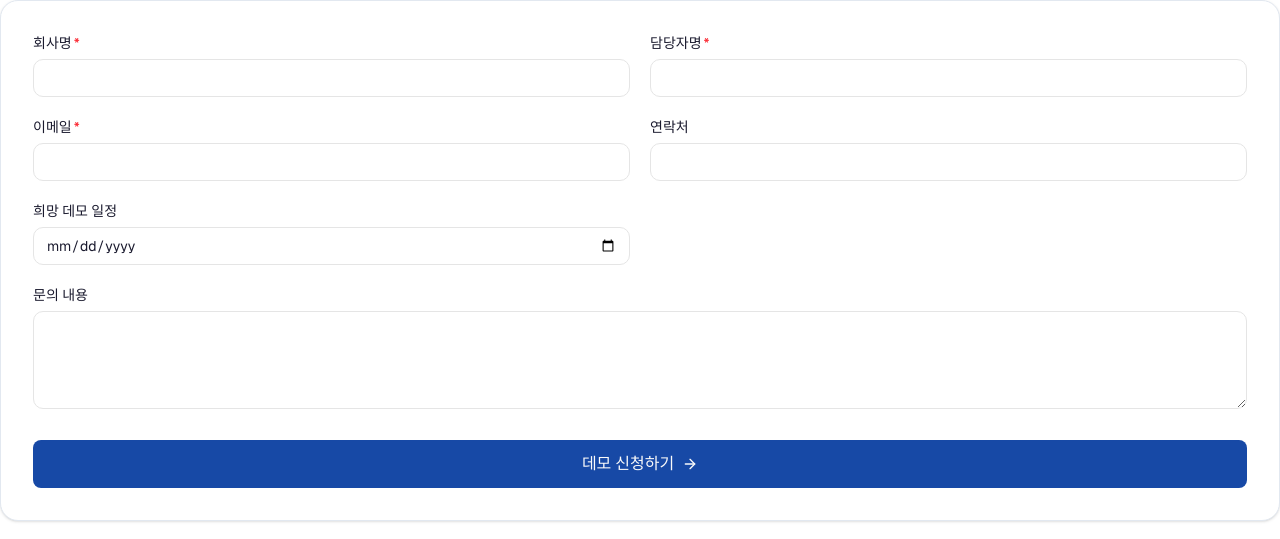
Scenario: DemoForm › posts to the inquiry API and shows success on valid input
Type "에이아이툴즈" into the field labelled "회사명*". click: (332, 78)
box: top-left (33, 59), bottom-right (630, 97)
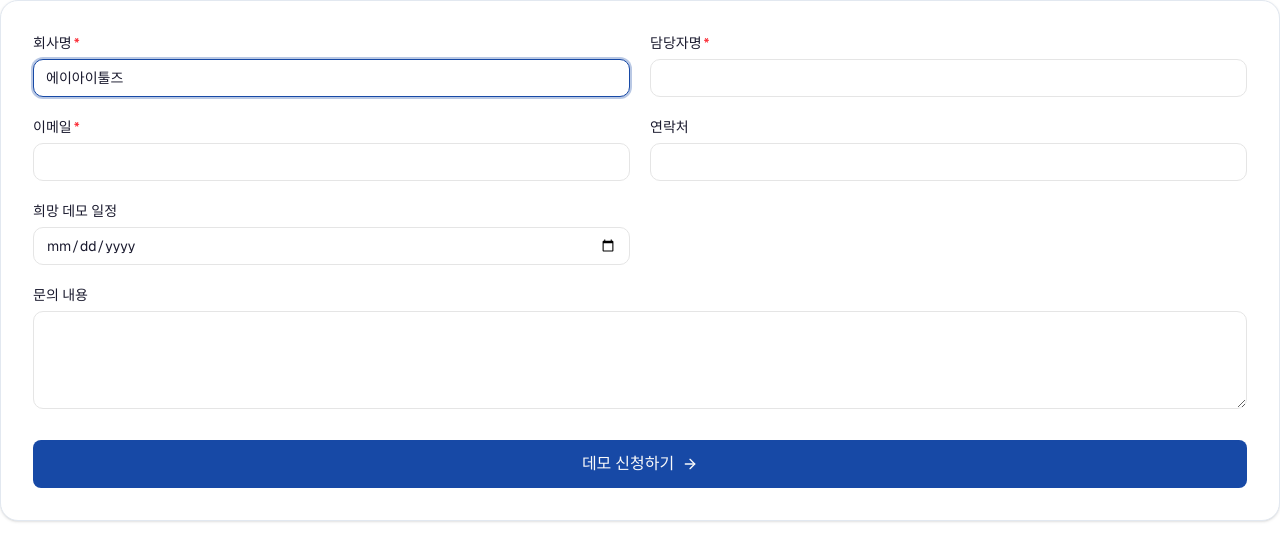
Type "서동구" into the field labelled "담당자명*". click: (948, 78)
box: top-left (650, 59), bottom-right (1247, 97)
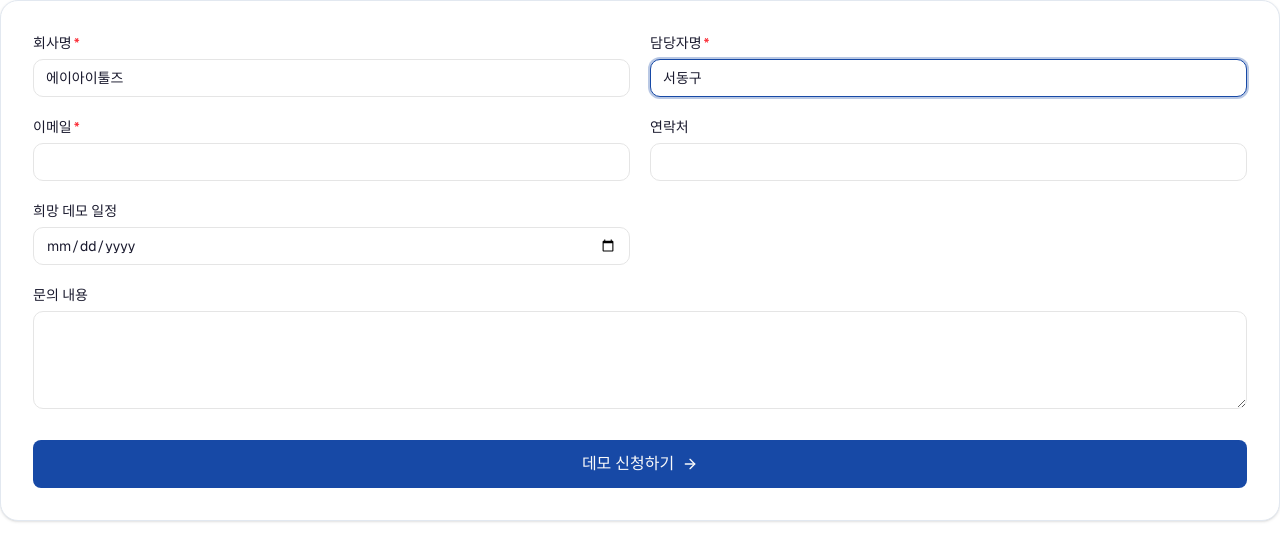
Type "a@b.com" into the field labelled "이메일*". click: (332, 162)
box: top-left (33, 143), bottom-right (630, 181)
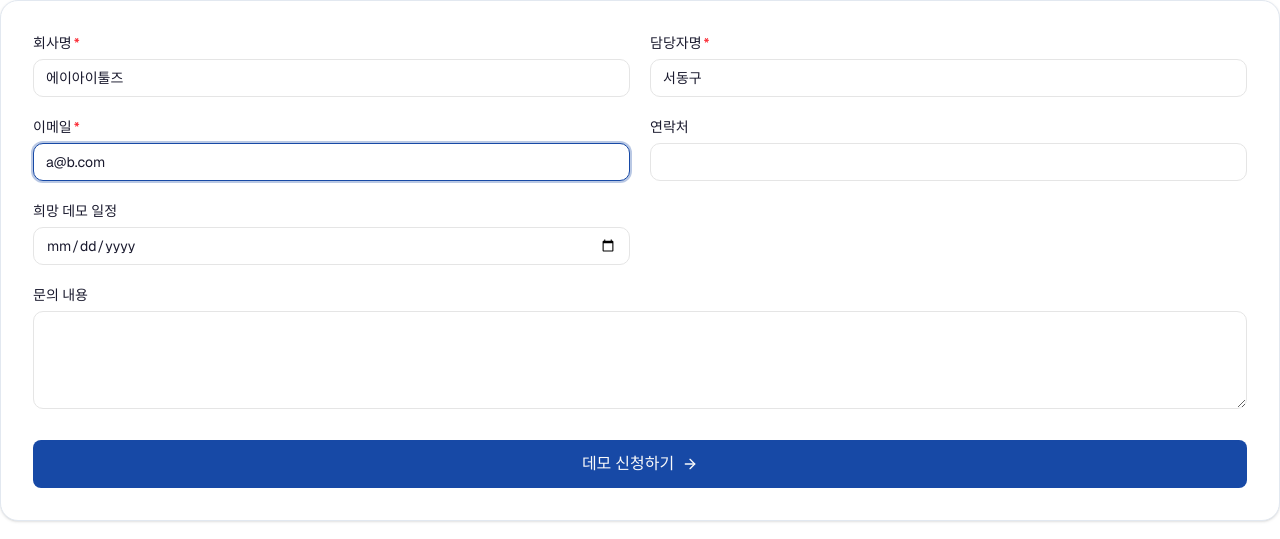
Click the button "데모 신청하기". click: (640, 464)
box: top-left (33, 440), bottom-right (1247, 488)
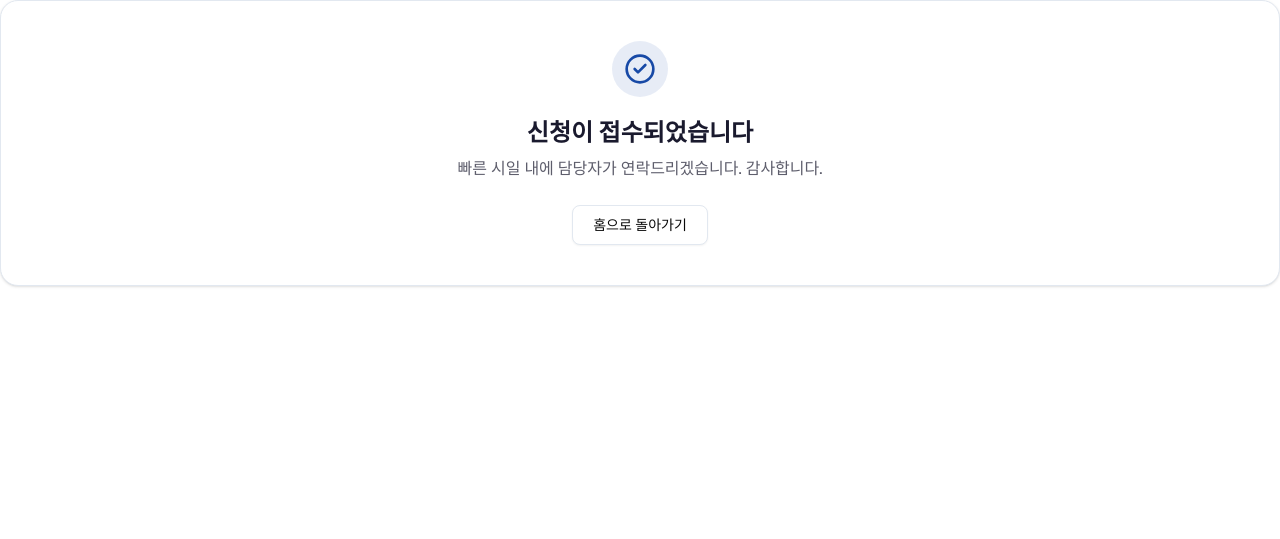
Result: the heading "신청이 접수되었습니다" is shown at top-left (527, 117), bottom-right (753, 148)
